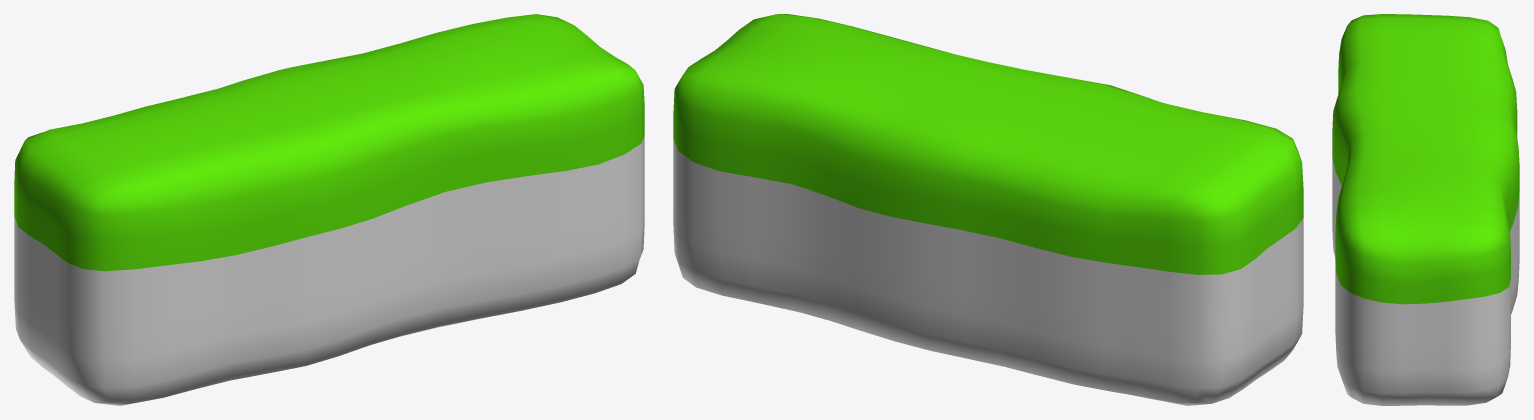
Rendered from Long Island2.fbx.
3 renders of one model, left to right at view 1: azimuth 30°, elevation 25°; view 2: azimuth 150°, elevation 25°; view 3: azimuth 270°, elevation 25°, orthographic. The views are drawn at different scales.
Parts seen in each view (by area): view 1: Cube; view 2: Cube; view 3: Cube.
Part boxes in pixels (<box>): Cube: <box>14,14,644,405</box>; Cube: <box>673,14,1303,405</box>; Cube: <box>1332,14,1519,405</box>.
Size of the model in its own units: 923 by 355 by 320.
